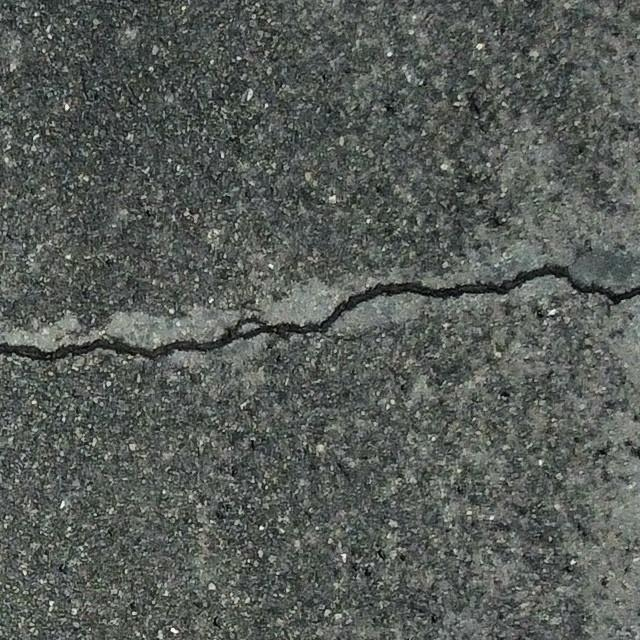TransverseCrack: (1, 261, 640, 359)
